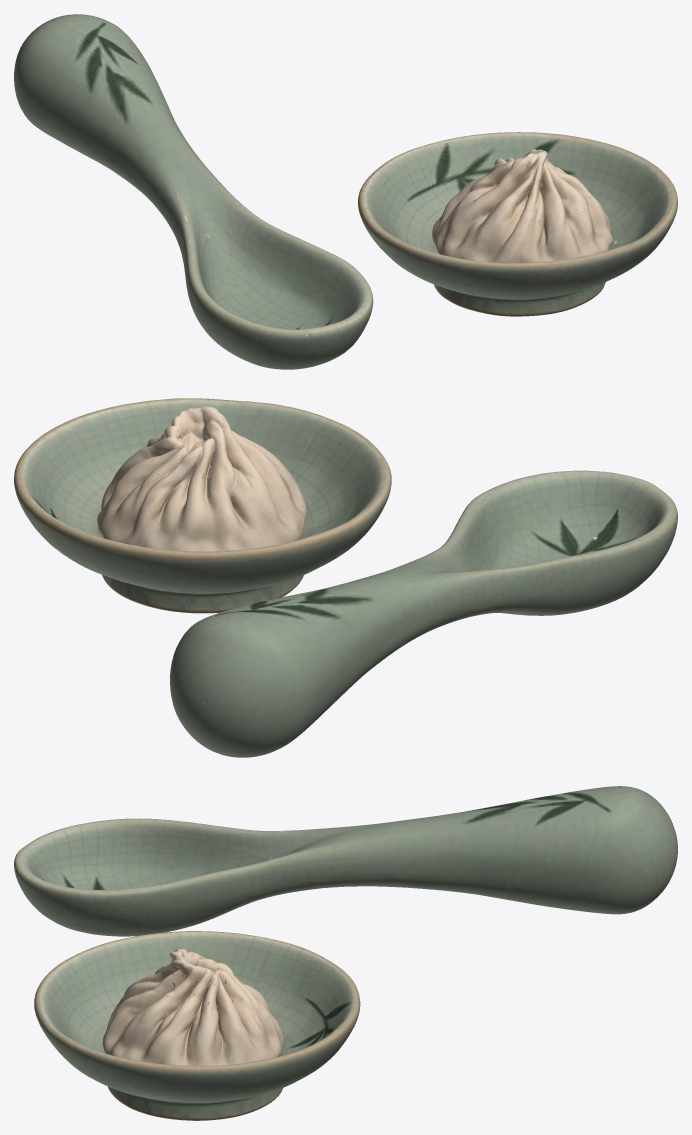
The picture shows the model from 3 angles, top to bottom: view 1: azimuth 30°, elevation 25°; view 2: azimuth 150°, elevation 25°; view 3: azimuth 270°, elevation 25°; orthographic projection. The views are drawn at different scales.
Size of the model in its own units: 1.66 by 0.5449 by 1.9.
Materials: 1 (1 with a texture image).
